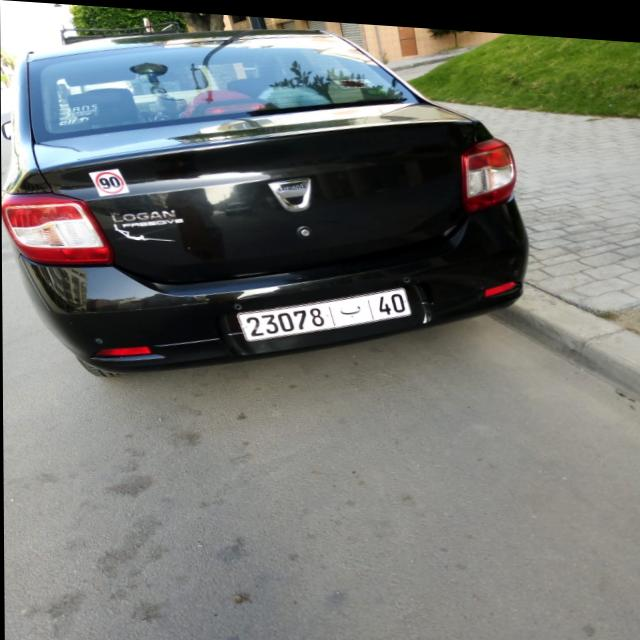License-Plate: (237, 282, 412, 338)
